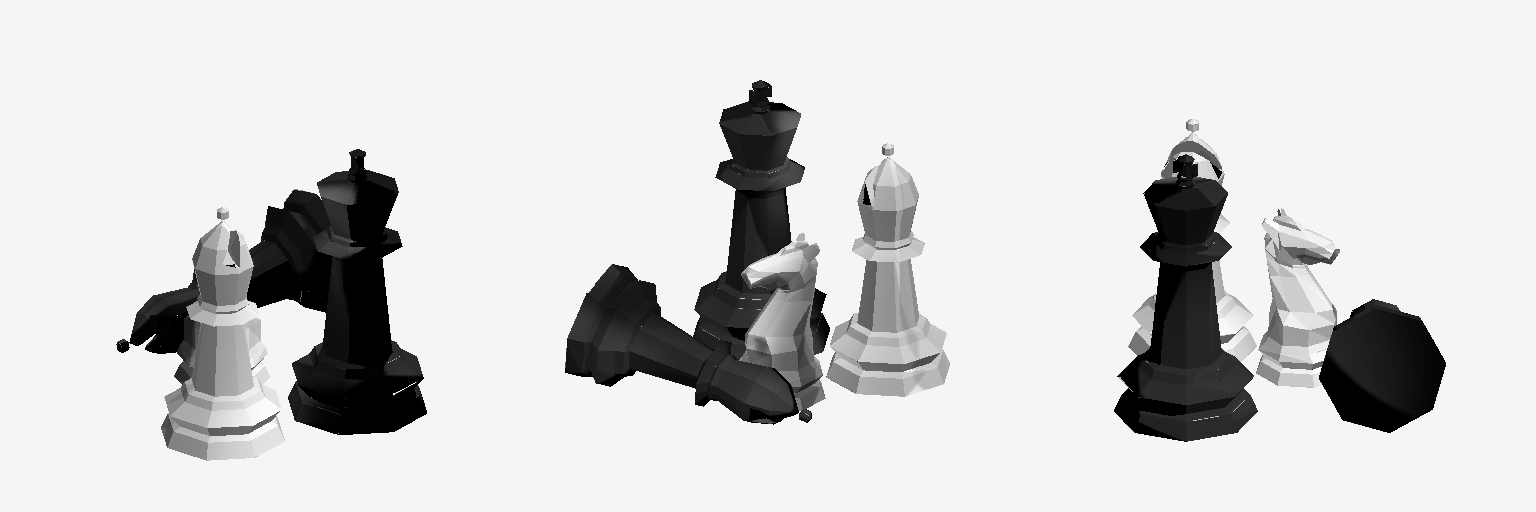
3 views of the same model, side by side, from view 1: azimuth 30°, elevation 25°; view 2: azimuth 150°, elevation 25°; view 3: azimuth 270°, elevation 25° (orthographic).
Parts seen in each view (by area): view 1: Chess; view 2: Chess; view 3: Chess.
Part boxes in pixels (bbox=[...]): Chess: bbox=[116, 149, 427, 460]; Chess: bbox=[565, 80, 949, 424]; Chess: bbox=[1114, 119, 1445, 441].
Bounding box in the file's own units: 2.36 × 2.19 × 2.57.
Materials: 1 (1 with a texture image).